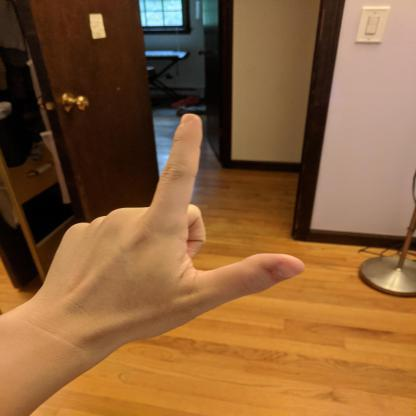L: (30, 113, 305, 353)
